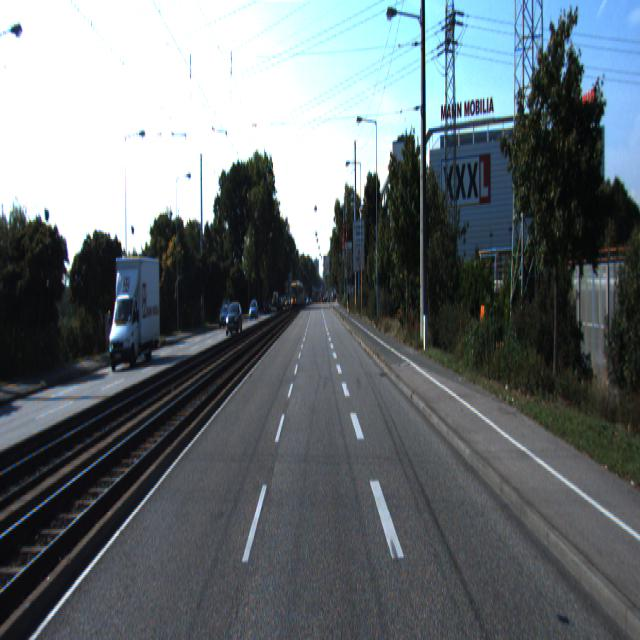Car: (105, 257, 161, 376), (225, 302, 243, 338)
